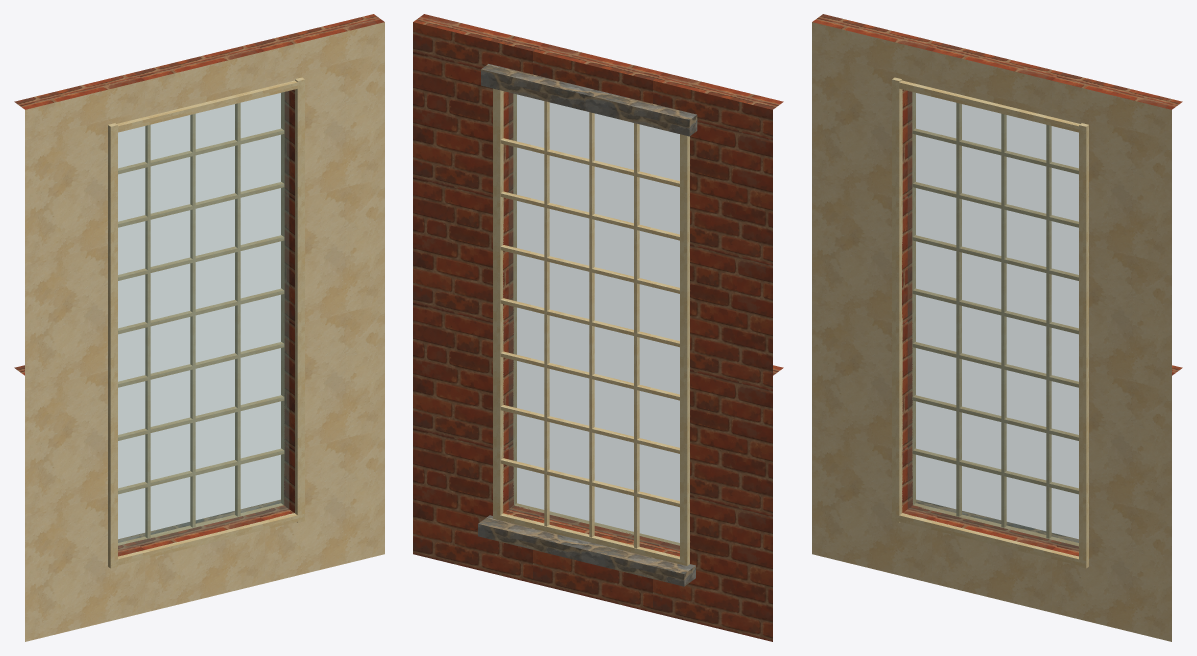
Rendered from mill-tall-window-bay-v1.gltf.
3 views of the same model, side by side, from view 1: azimuth 30°, elevation 25°; view 2: azimuth 150°, elevation 25°; view 3: azimuth 330°, elevation 25° (orthographic).
Visible parts, largest first — view 1: glazing-L0-glass, exterior-L0-plaster, exterior-L1-plaster, facade-trim-L0-sash, datum-band-L1-plaster, datum-band-L1-brick, exterior-L0-brick, datum-band-L0-plaster, exterior-L1-brick, facade-trim-L0-stone; view 2: glazing-L0-glass, exterior-L0-brick, exterior-L1-brick, facade-trim-L0-sash, facade-trim-L0-stone, datum-band-L1-brick, datum-band-L0-brick; view 3: glazing-L0-glass, exterior-L0-plaster, exterior-L1-plaster, facade-trim-L0-sash, datum-band-L1-plaster, datum-band-L1-brick, exterior-L0-brick, datum-band-L0-plaster, exterior-L1-brick, facade-trim-L0-stone.
Boxes of the visible parts, x1,y1,x2,y2 form: glazing-L0-glass: (118,91,288,550); exterior-L0-plaster: (25,303,384,641); exterior-L1-plaster: (25,37,384,375); facade-trim-L0-sash: (108,77,304,568); datum-band-L1-plaster: (25,22,384,124); datum-band-L1-brick: (14,14,384,109); exterior-L0-brick: (118,318,294,556); datum-band-L0-plaster: (25,288,384,390); exterior-L1-brick: (284,89,294,309); facade-trim-L0-stone: (118,499,280,542); glazing-L0-glass: (509,93,679,550); exterior-L0-brick: (413,303,772,641); exterior-L1-brick: (413,37,772,375); facade-trim-L0-sash: (493,88,689,565); facade-trim-L0-stone: (478,64,697,586); datum-band-L1-brick: (413,14,783,124); datum-band-L0-brick: (413,288,783,390); glazing-L0-glass: (908,91,1078,550); exterior-L0-plaster: (812,303,1171,641); exterior-L1-plaster: (812,37,1171,375); facade-trim-L0-sash: (892,77,1088,568); datum-band-L1-plaster: (812,22,1171,124); datum-band-L1-brick: (812,14,1182,109); exterior-L0-brick: (902,318,1078,556); datum-band-L0-plaster: (812,288,1171,390); exterior-L1-brick: (902,89,912,309); facade-trim-L0-stone: (916,499,1078,542).
Bounding box in the file's own units: 3 × 4.24 × 0.37.
5 materials, 4 textured.
